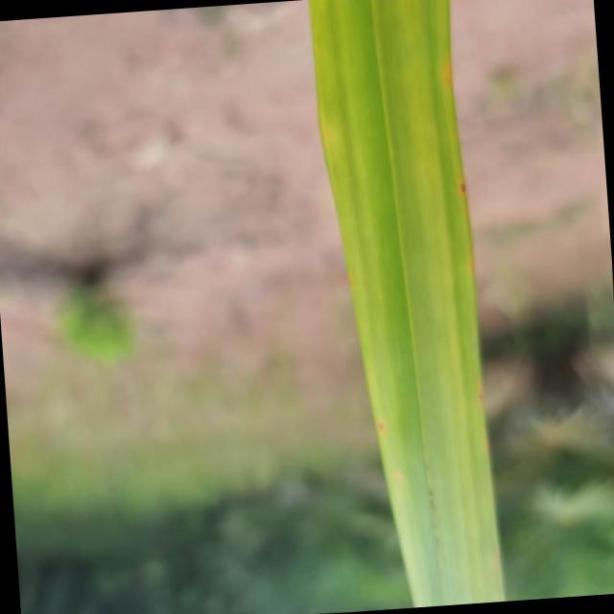nitrogen: (310, 0, 505, 614)
